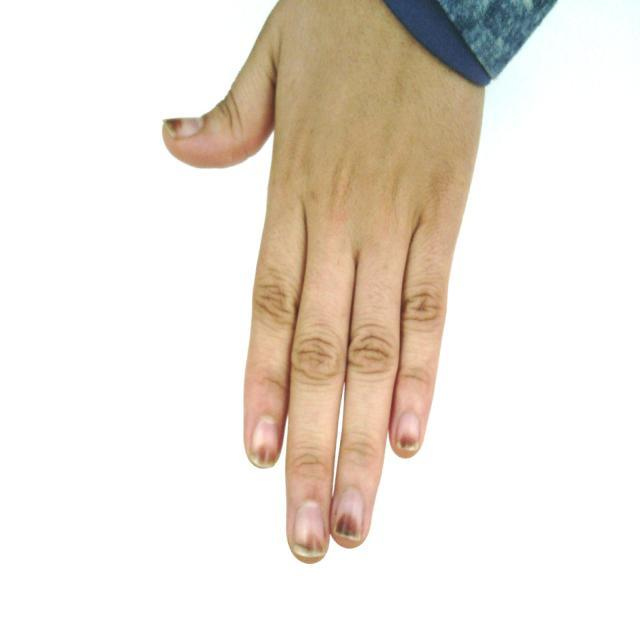Fingernail: (292, 502, 326, 559), (333, 489, 364, 544), (251, 418, 279, 467), (397, 414, 420, 450), (163, 119, 202, 140)
